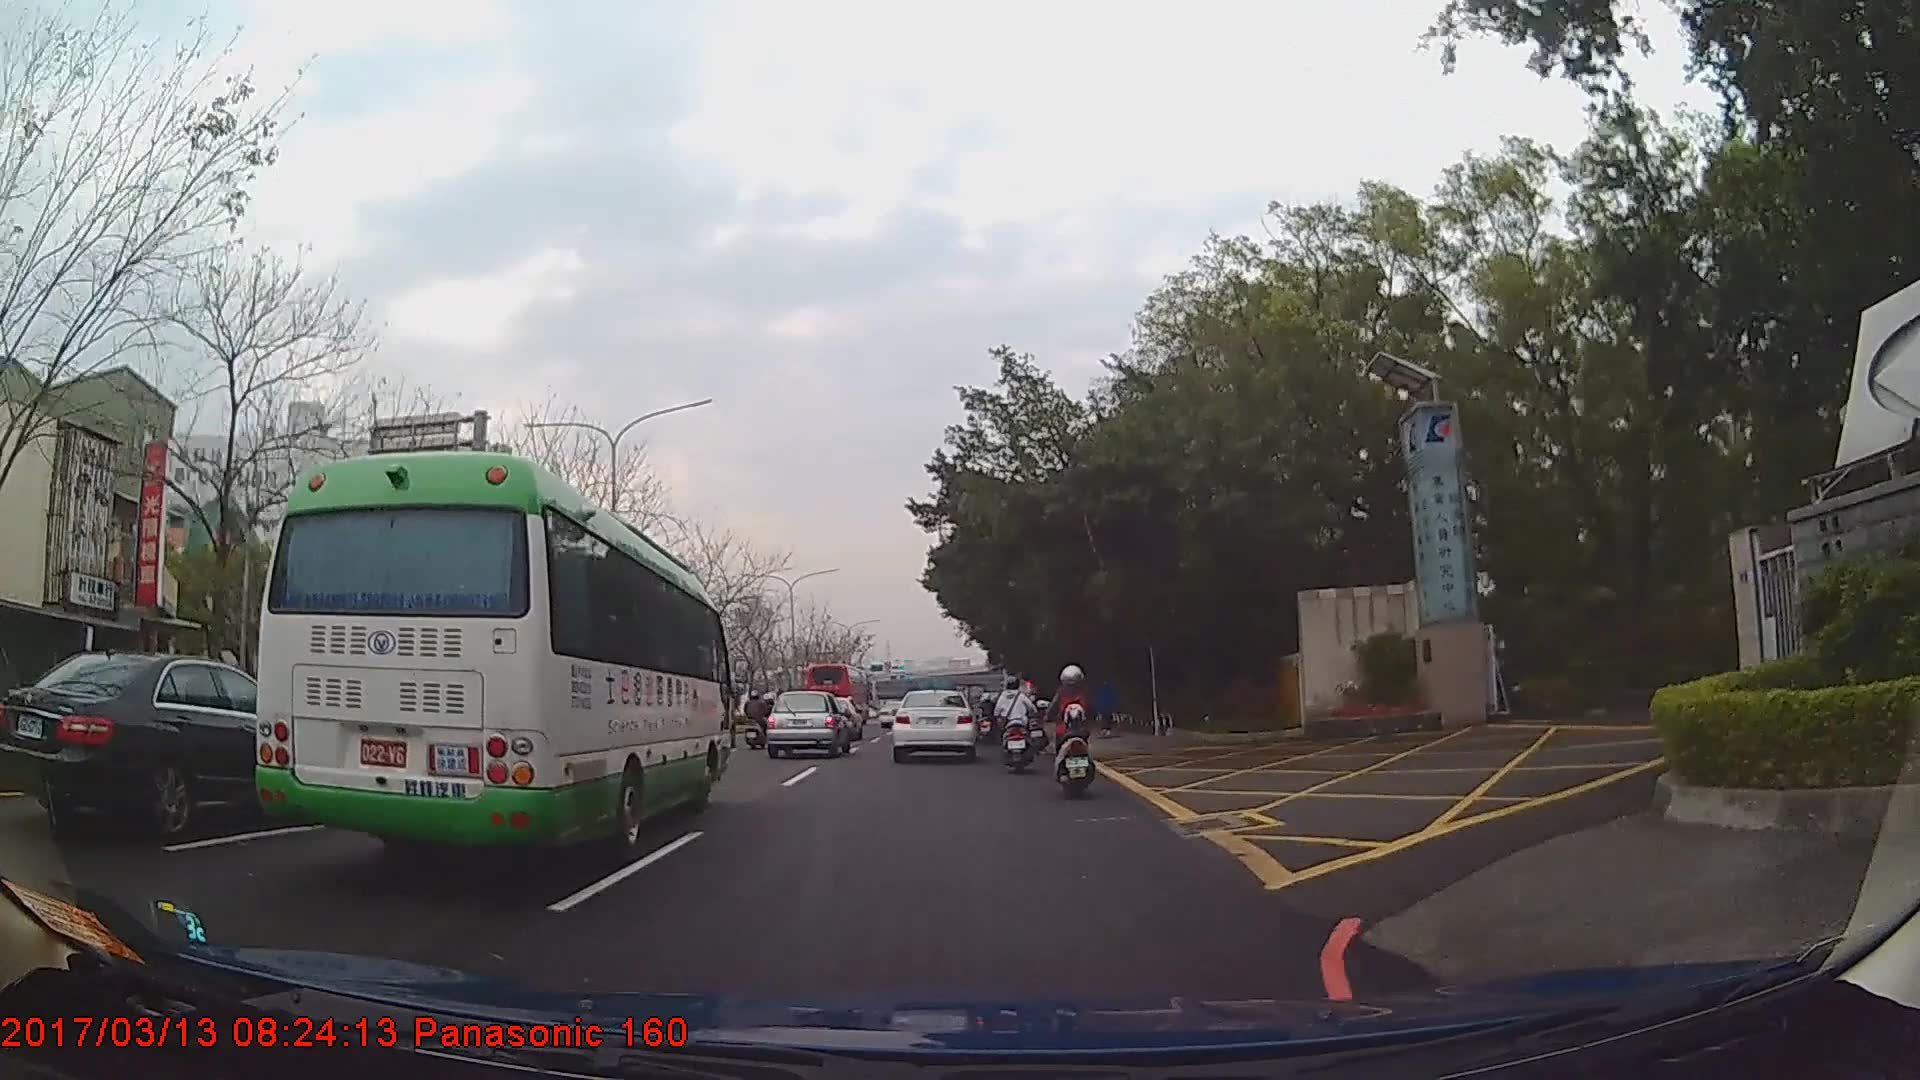pedestrian: (1091, 676, 1116, 738)
rider: (1048, 664, 1095, 803), (992, 678, 1036, 776), (1024, 690, 1047, 754), (745, 687, 770, 741)
vehicle: (250, 449, 729, 859), (5, 648, 344, 839), (888, 685, 976, 760), (762, 686, 851, 756), (800, 661, 868, 727)
